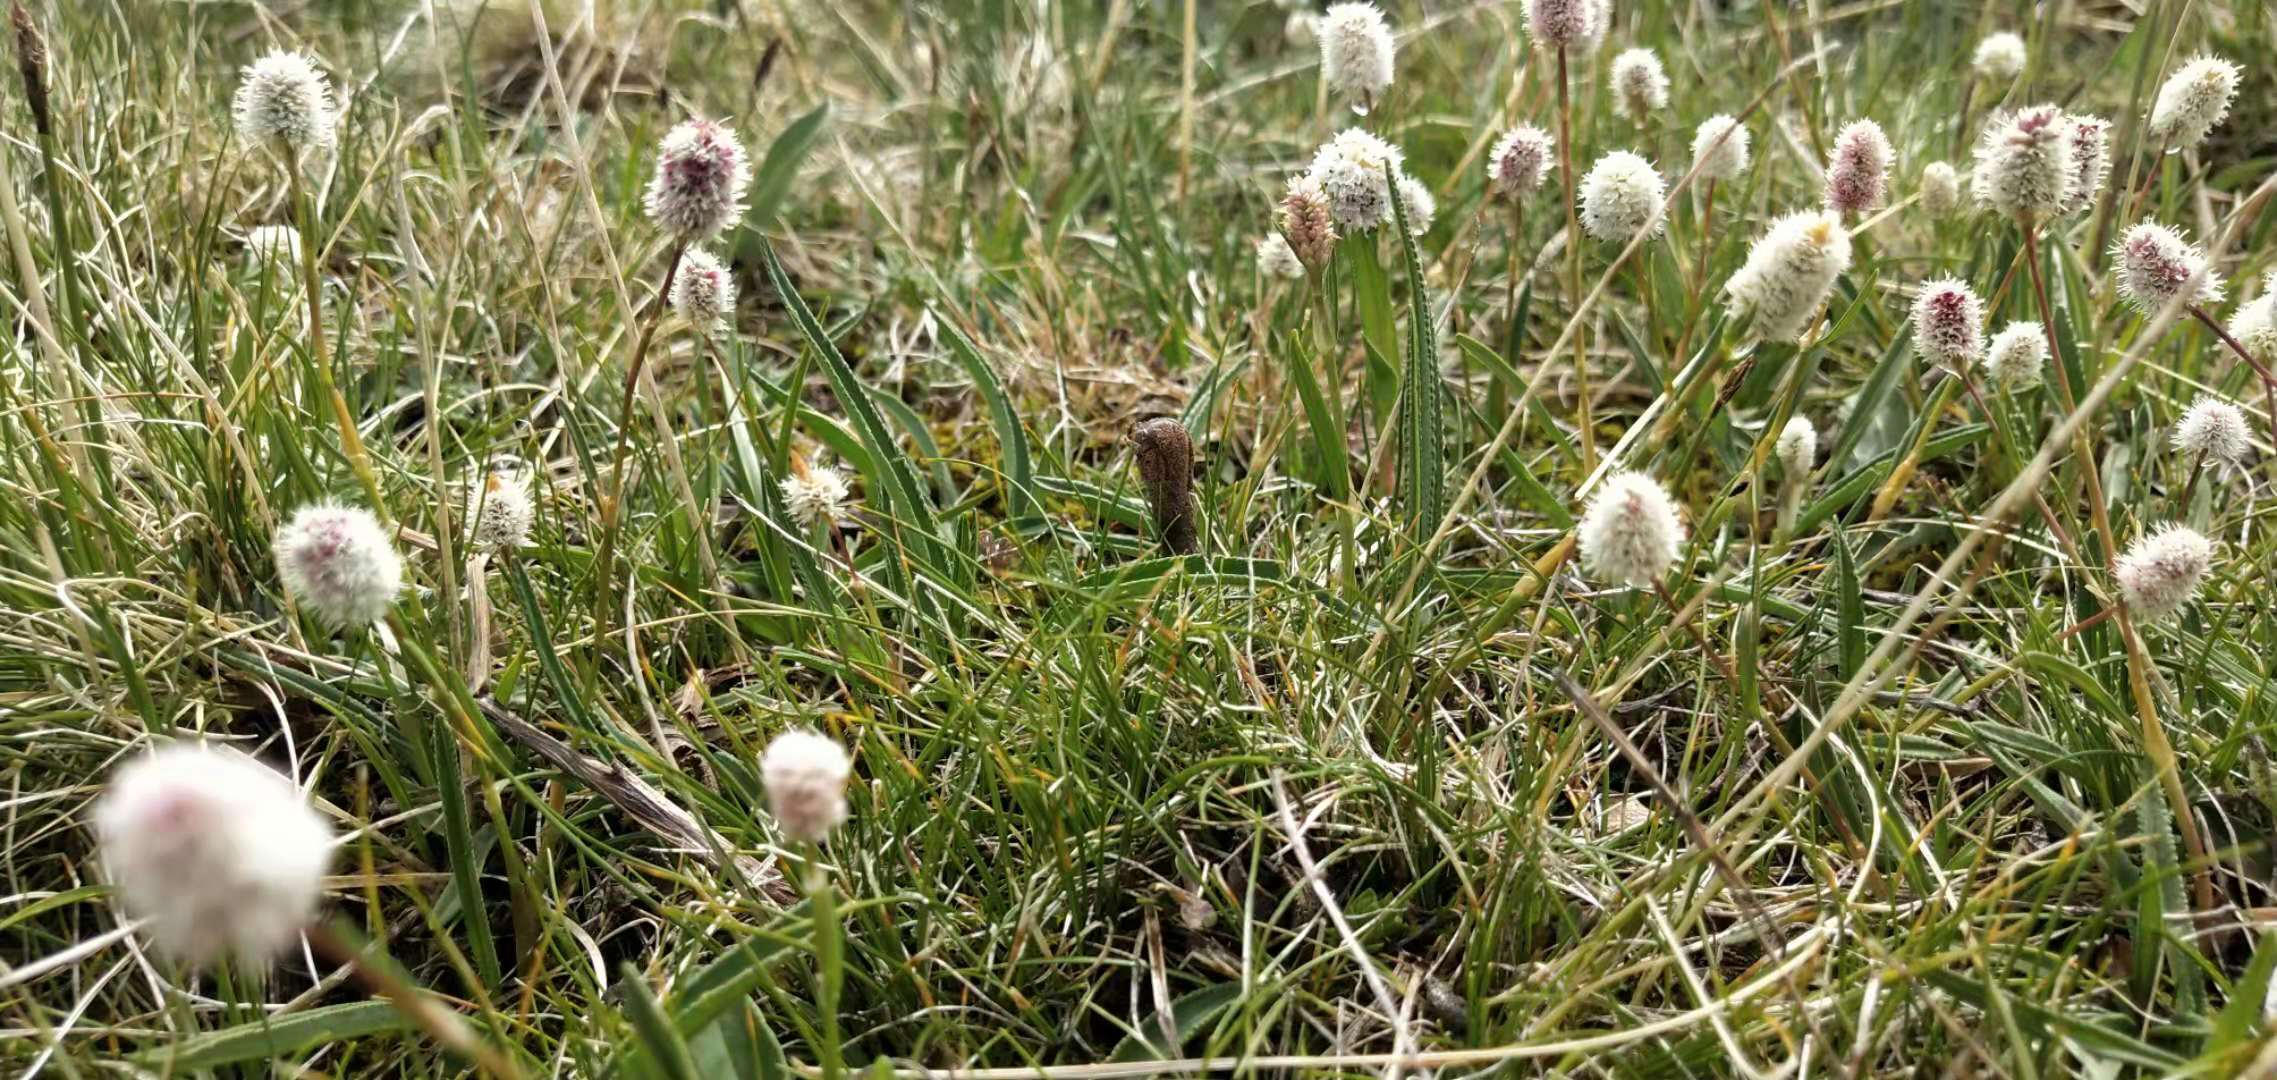Chongcao: (1128, 418, 1199, 557)
